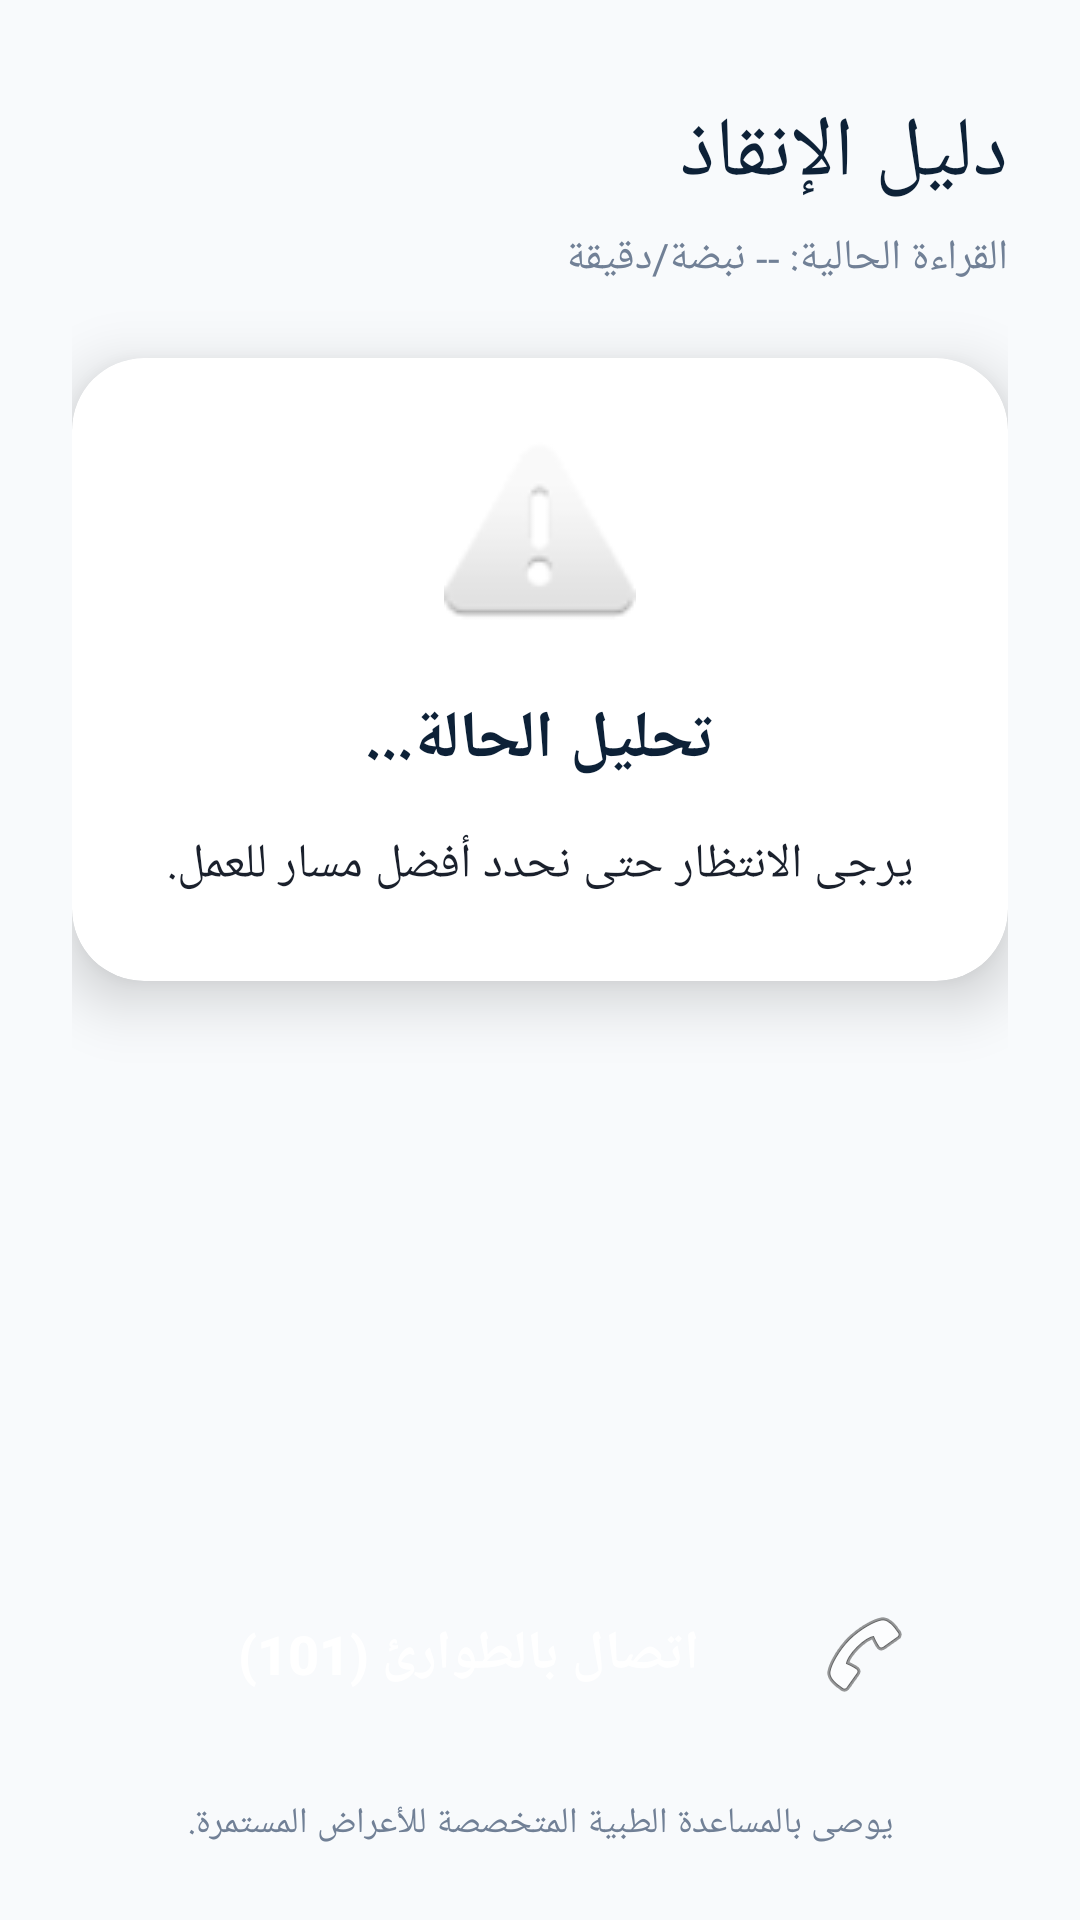

Icons on this 1080w x 1920h Android screen, each with the point to tap as (x,y):
alert: (540,551)
